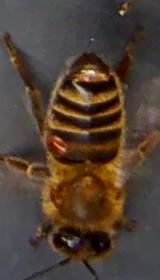varroa_mite: (35, 122, 80, 160)
